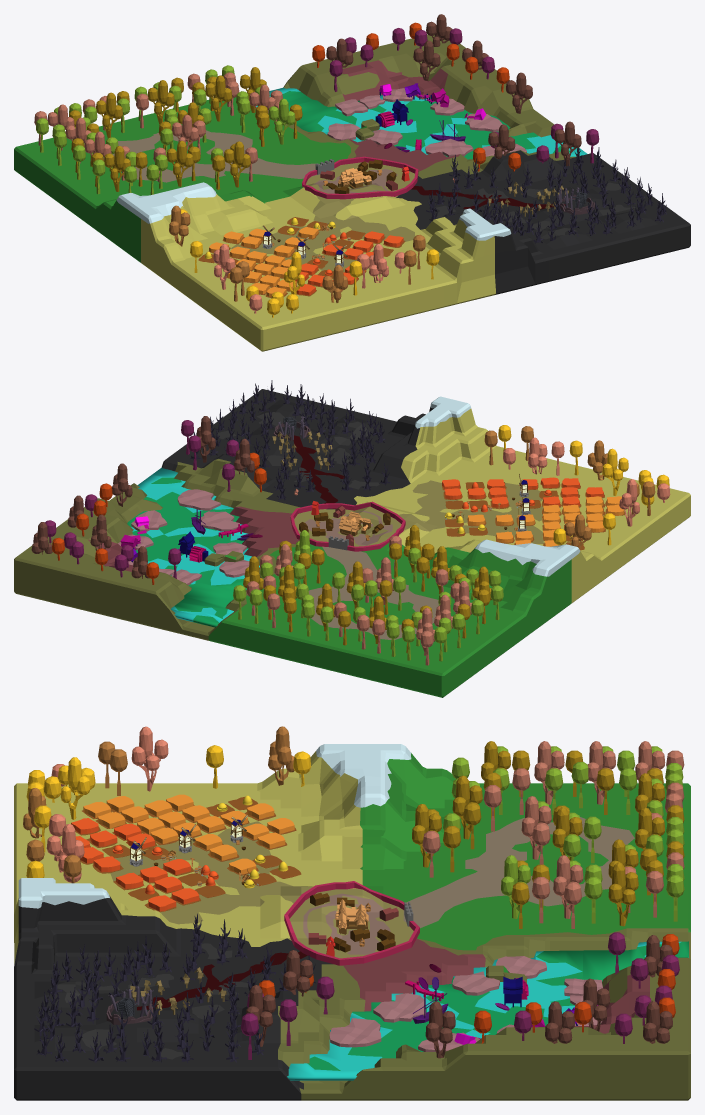
File: GameMapModelPrefab.fbx
The picture shows the model from 3 angles, top to bottom: view 1: azimuth 30°, elevation 25°; view 2: azimuth 150°, elevation 25°; view 3: azimuth 270°, elevation 25°; orthographic projection. The views are drawn at different scales.
Parts seen in each view (by area): view 1: base map, Forest asset 1, Swamp fores asset 2, River color, Field forest 3, Crooked tree 4, Reed 1, field of wheat 1, Field asset 3, field of wheat 2, test wall need delete 5, TEREM GG 5 (+1 smaller); view 2: base map, Forest asset 1, River color, Swamp fores asset 2, Field forest 3, Crooked tree 4, Reed 1, Field asset 3, field of wheat 1, field of wheat 2, test wall need delete 5, Cross grave 4 (+1 smaller); view 3: base map, Forest asset 1, Swamp fores asset 2, River color, Field forest 3, Crooked tree 4, field of wheat 1, Field asset 3, Reed 1, field of wheat 2, test wall need delete 5, TEREM GG 5 (+1 smaller).
Part boxes in pixels (x1,y1,x2,y2): base map: [14, 34, 690, 351]; Forest asset 1: [34, 65, 302, 194]; Swamp fores asset 2: [312, 14, 599, 171]; River color: [256, 87, 587, 159]; Field forest 3: [169, 205, 439, 317]; Crooked tree 4: [426, 147, 666, 243]; Reed 1: [327, 88, 526, 156]; field of wheat 1: [209, 227, 318, 296]; Field asset 3: [198, 217, 405, 297]; field of wheat 2: [295, 231, 403, 295]; test wall need delete 5: [302, 156, 418, 199]; TEREM GG 5: [338, 168, 371, 188]; base map: [14, 389, 690, 697]; Forest asset 1: [233, 525, 503, 665]; River color: [127, 467, 259, 627]; Swamp fores asset 2: [31, 416, 266, 584]; Field forest 3: [484, 425, 670, 549]; Crooked tree 4: [190, 380, 391, 500]; Reed 1: [118, 489, 249, 585]; Field asset 3: [442, 474, 624, 550]; field of wheat 1: [468, 496, 624, 546]; field of wheat 2: [442, 477, 603, 507]; test wall need delete 5: [290, 501, 405, 551]; Cross grave 4: [272, 431, 332, 470]; base map: [14, 744, 690, 1100]; Forest asset 1: [412, 741, 684, 928]; Swamp fores asset 2: [241, 932, 679, 1059]; River color: [287, 941, 688, 1080]; Field forest 3: [23, 726, 311, 883]; Crooked tree 4: [34, 913, 315, 1062]; field of wheat 1: [83, 794, 294, 874]; Field asset 3: [61, 795, 301, 912]; Reed 1: [329, 956, 602, 1051]; field of wheat 2: [71, 818, 199, 911]; test wall need delete 5: [284, 881, 419, 965]; TEREM GG 5: [335, 899, 368, 934].
Bounding box in the file's own units: 8000 × 1278 × 8000.
